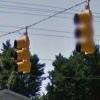Traffic light: (7, 26, 43, 84)
